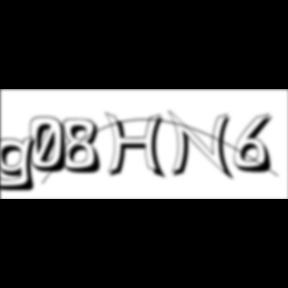0: (30, 115, 74, 174)
6: (234, 112, 278, 176)
8: (62, 117, 108, 176)
H: (105, 112, 171, 182)
N: (168, 109, 238, 183)
g: (0, 134, 44, 194)
